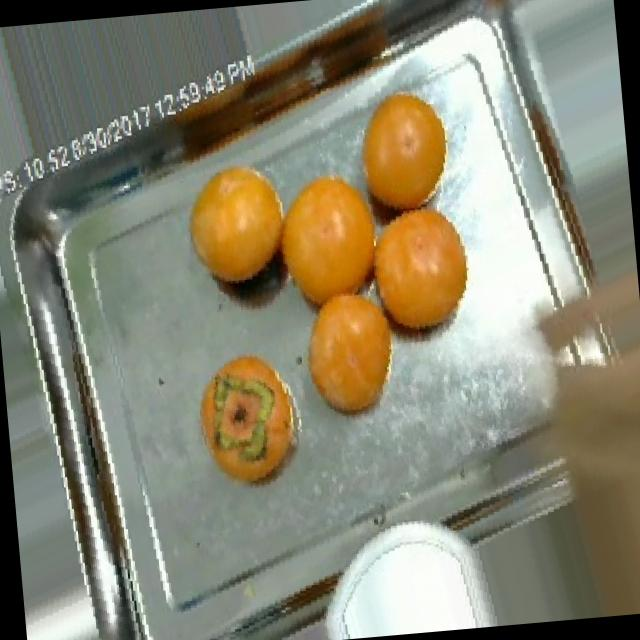Fruit: (252, 150, 397, 342), (352, 187, 496, 366), (182, 334, 318, 508), (285, 275, 422, 441), (165, 144, 302, 308), (339, 69, 468, 235)
